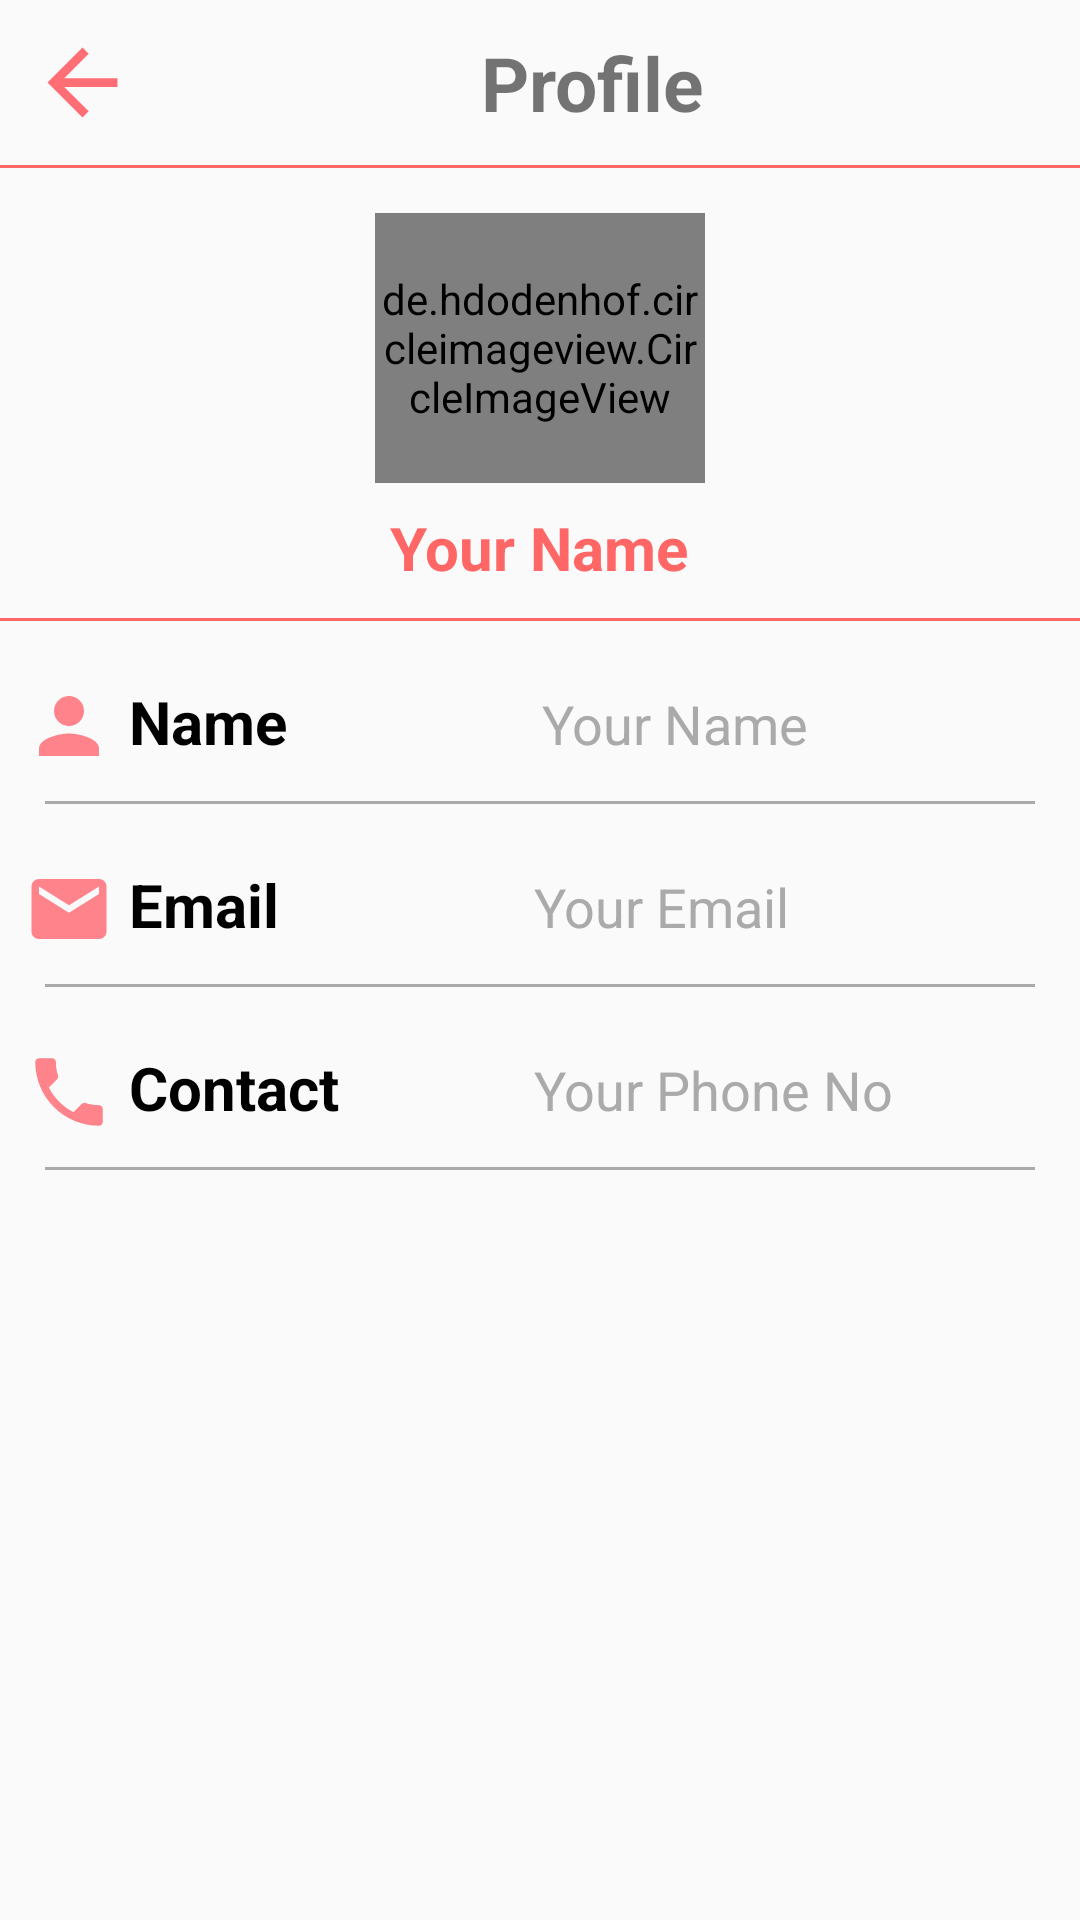

Icon click points for this 1080x1920 phone screenshot, format point (x, y):
arrow: point (82, 82)
person: point (69, 726)
phone: point (69, 1092)
